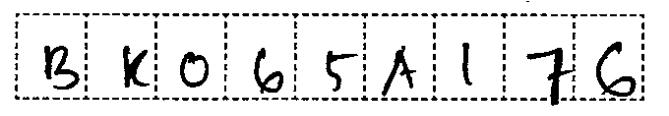0: (174, 45, 213, 91)
1: (449, 36, 484, 90)
5: (318, 44, 360, 96)
6: (590, 37, 638, 97), (247, 44, 291, 94)
7: (522, 41, 571, 97)
A: (377, 41, 419, 96)
B: (37, 37, 82, 95)
K: (116, 40, 152, 94)
